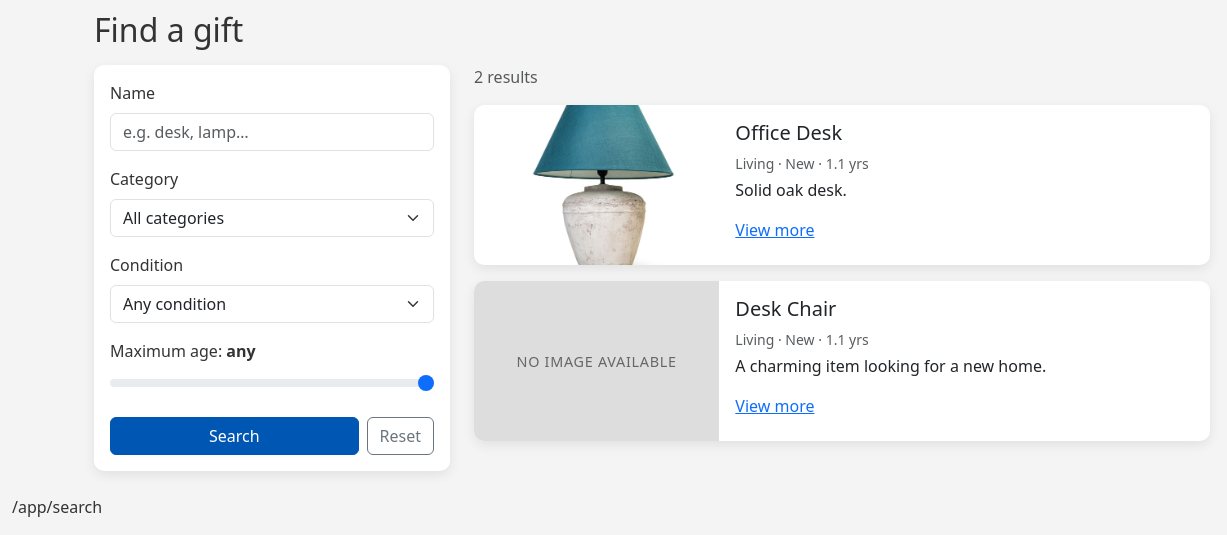
Test: <SearchPage /> › applies all filters on Search and reflects them in the URL
Expected: the text "2 results" is shown, [474,66,538,88]
Type " desk " into the search field labelled "Name" at [272, 132], box [110,113,434,151]
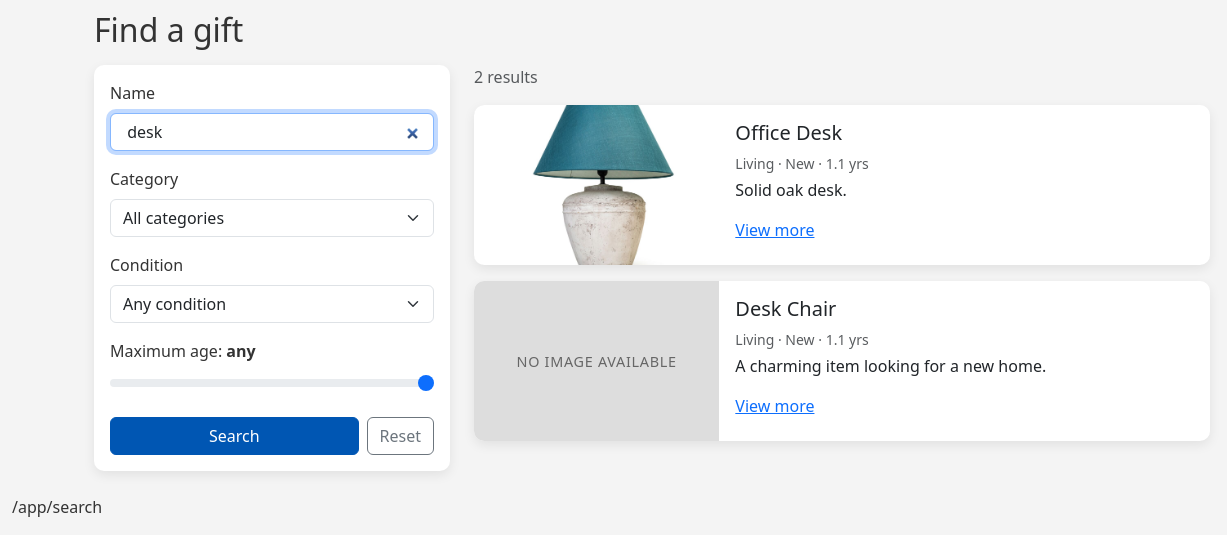
Select "Office" in the dropdown labelled "Category" at [272, 218], box [110,199,434,237]
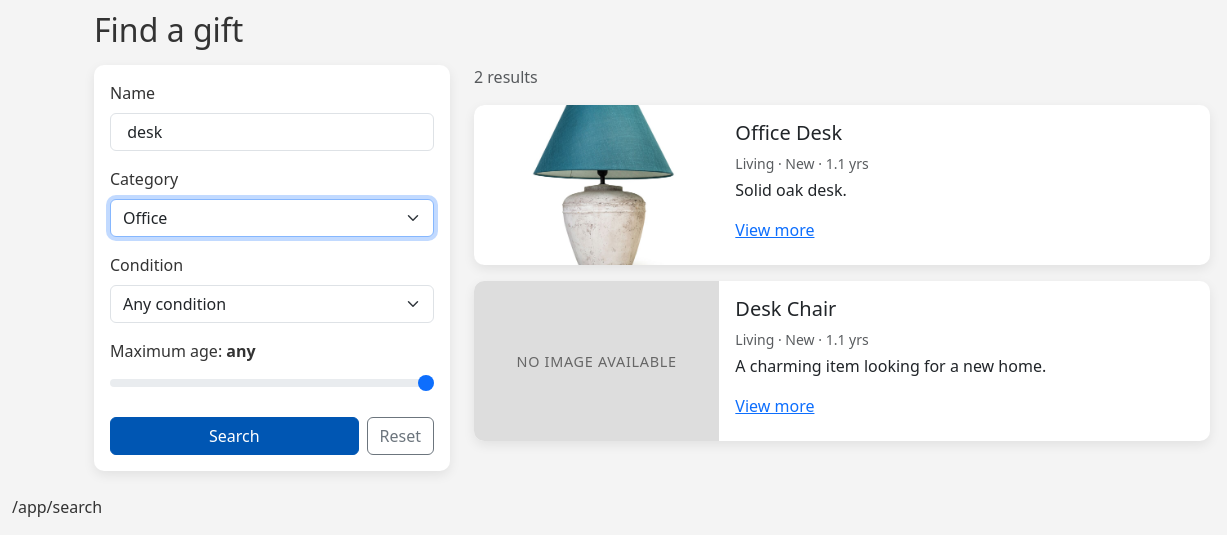
Select "Like New" in the dropdown labelled "Condition" at [272, 304], box [110,285,434,323]
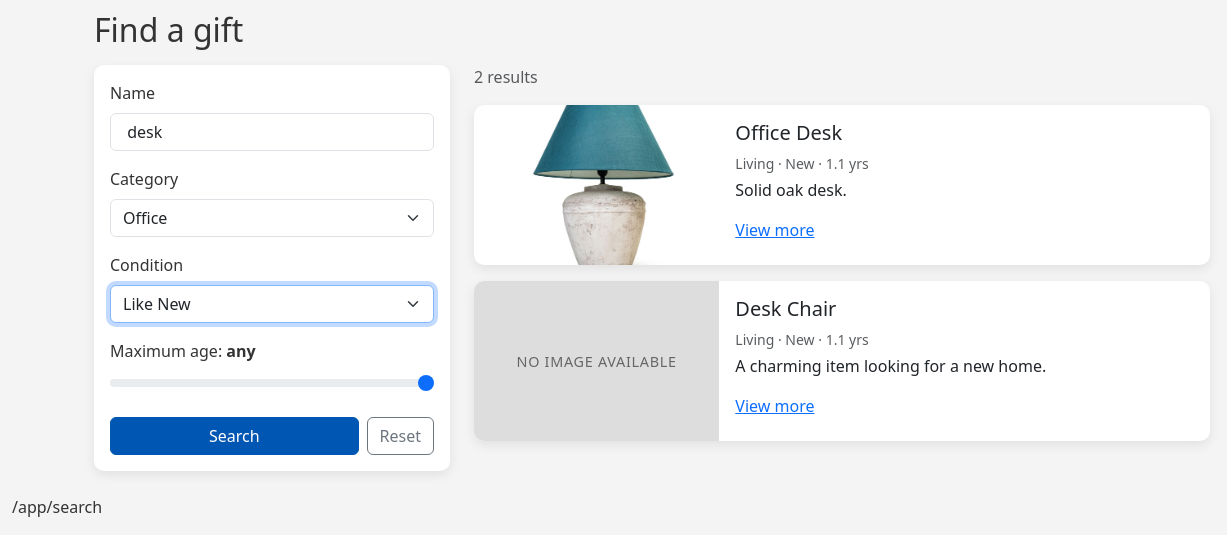
Set the slider to "4" at [241, 383], box [110,371,434,395]
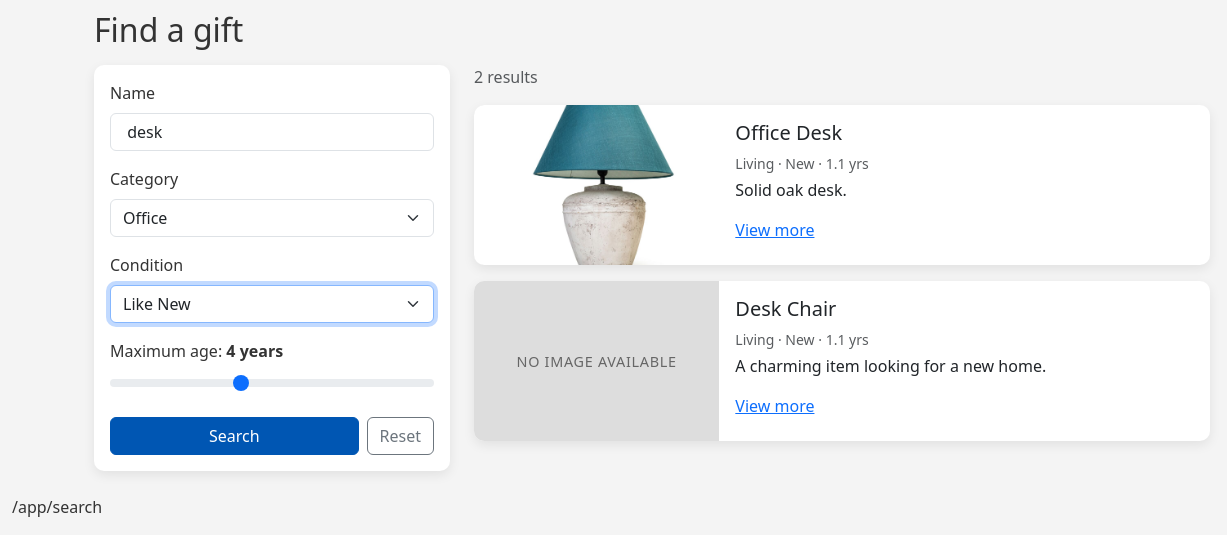
Click the button "Search" at [234, 436], box [110,417,358,455]
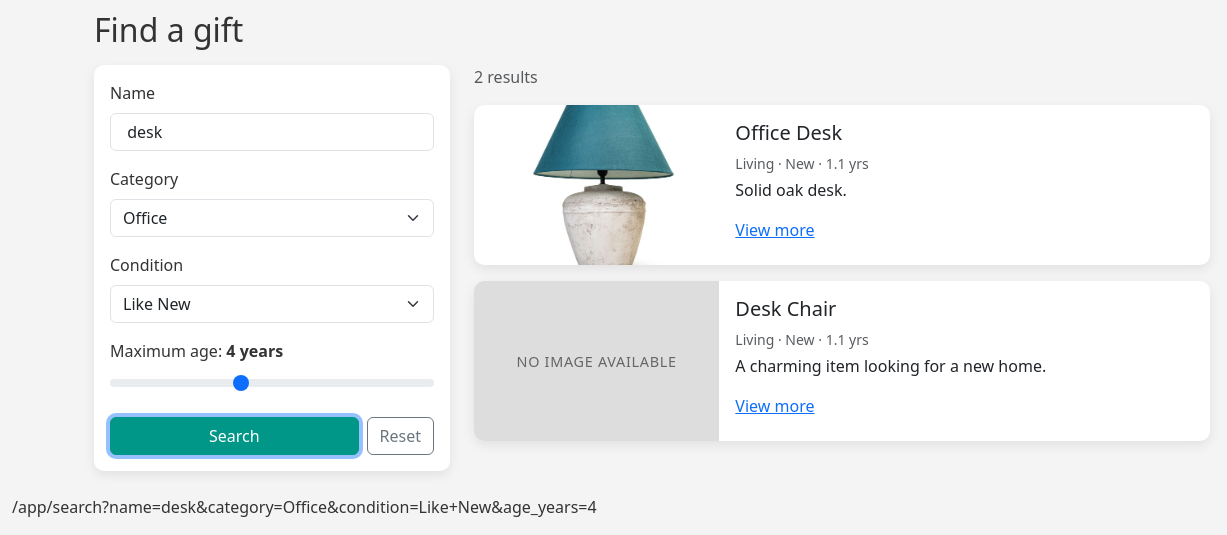
Expected: the text "2 results" is shown, [474,66,538,88]
Result: the text with test id "location" reads "/app/search?name=desk&category=Office&condition=Like+New&age_years=4" at [12,496,597,518]
